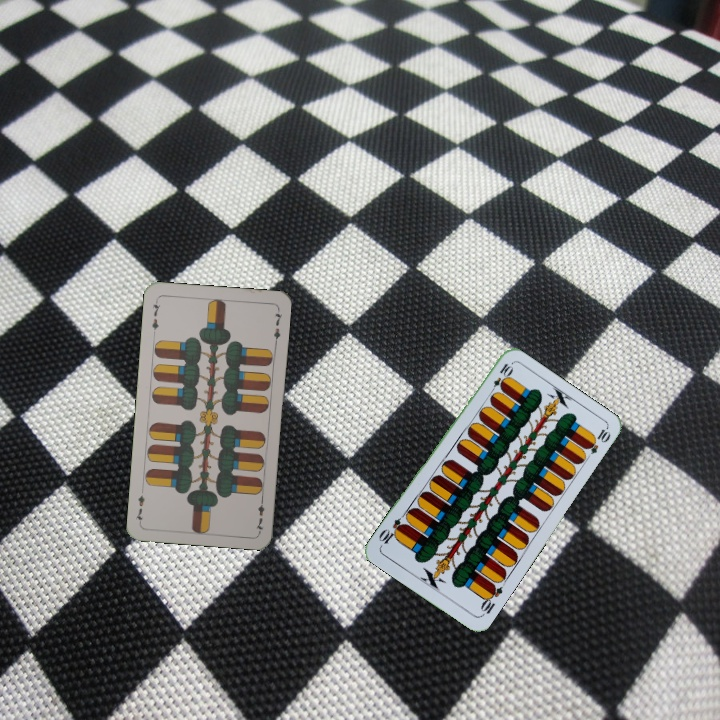E10: (476, 580, 505, 619), (486, 359, 515, 397)
E7: (252, 493, 267, 534), (148, 296, 163, 332)
